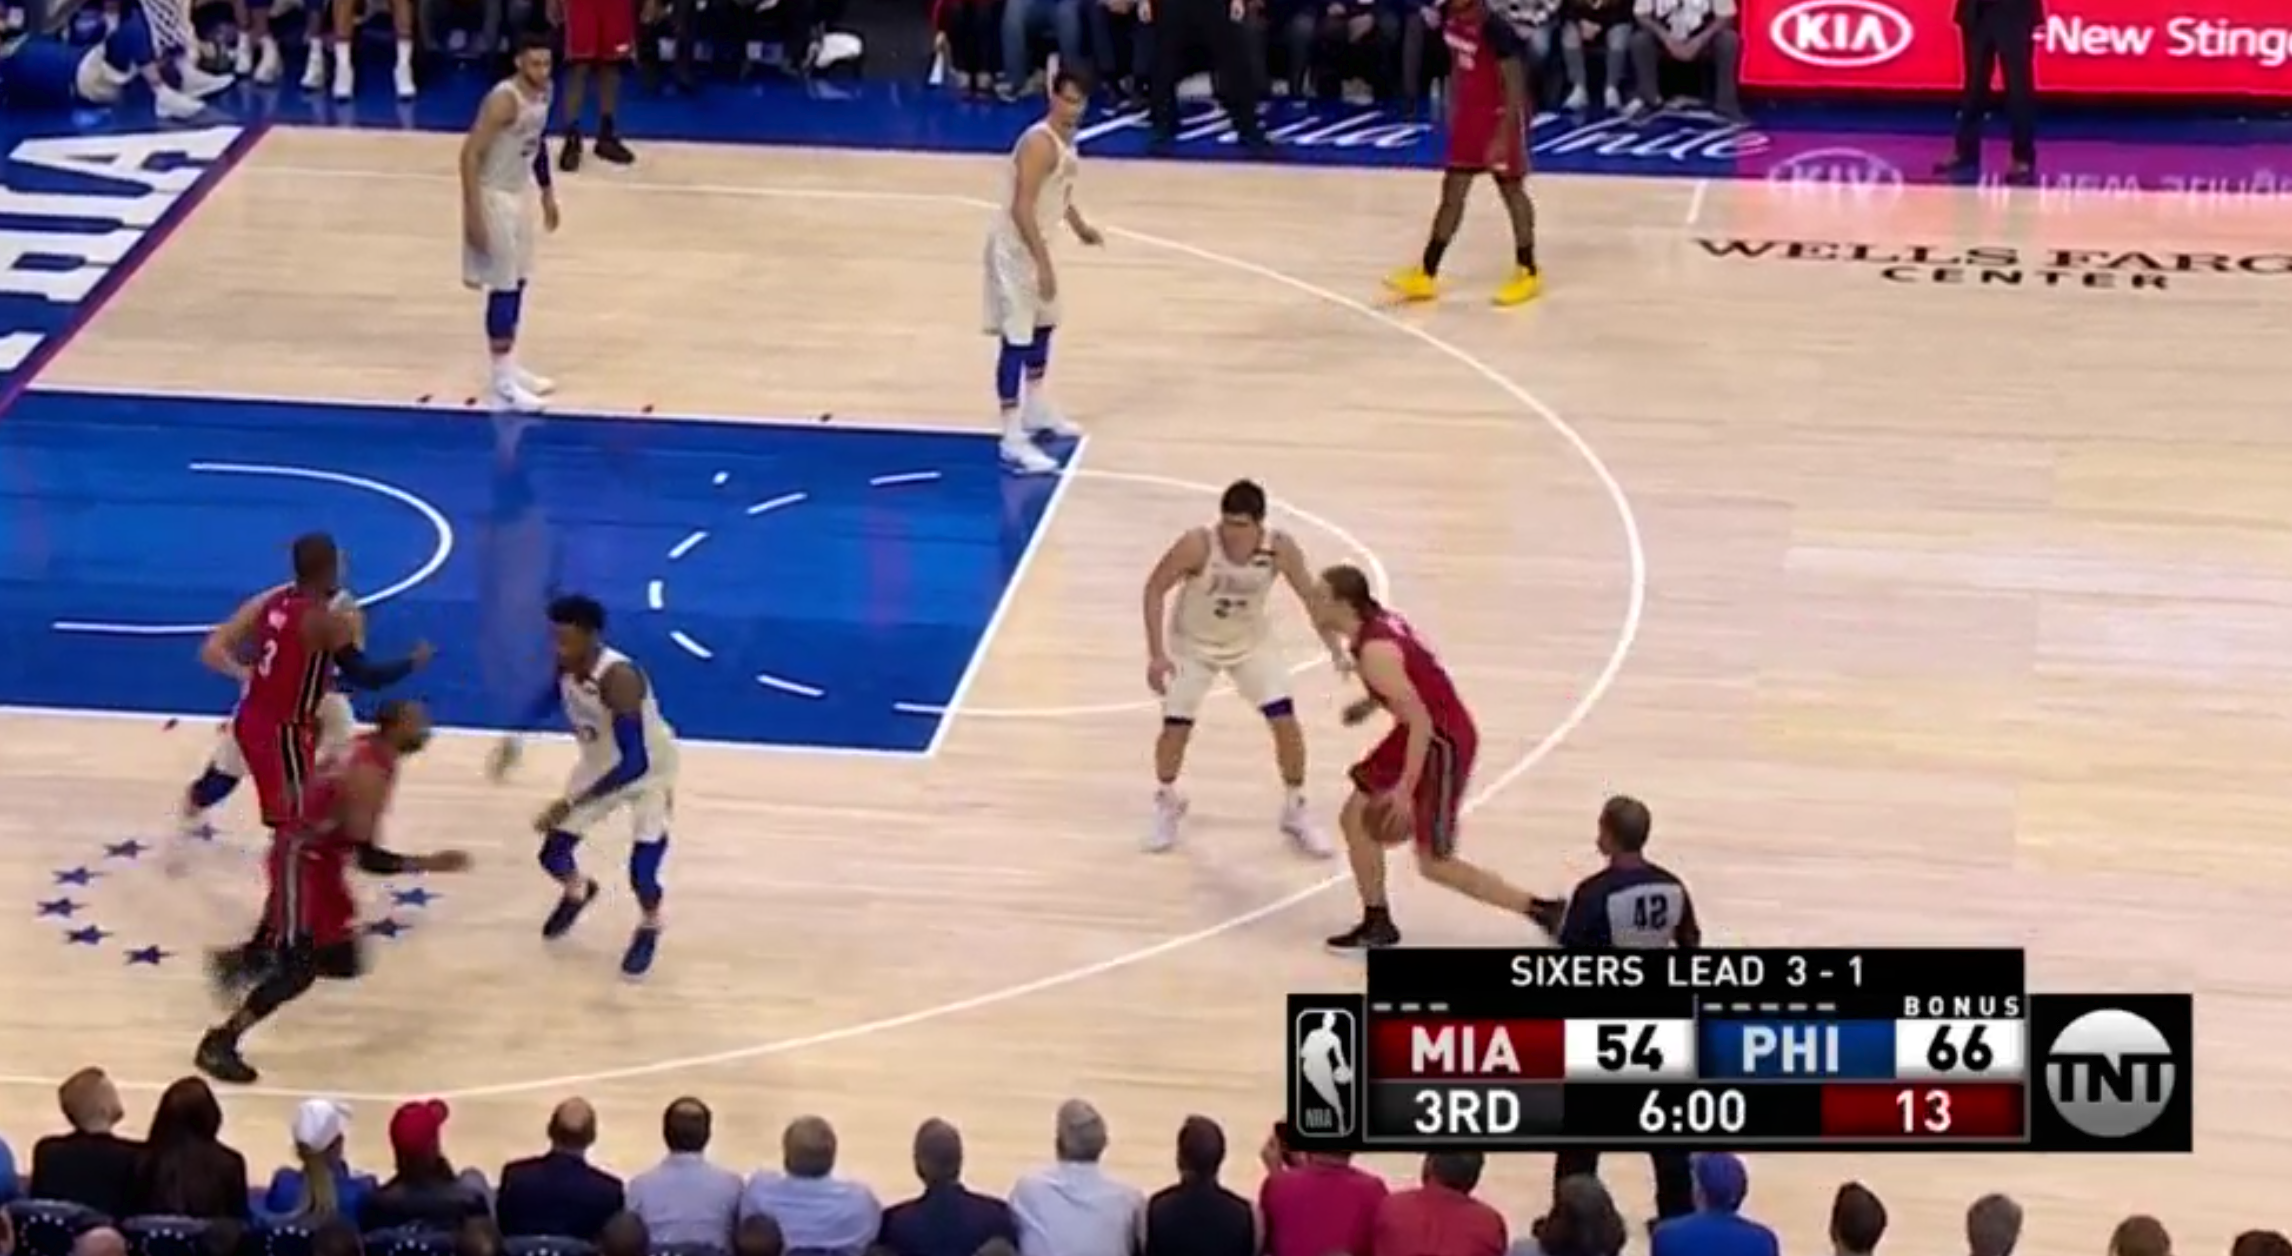ball: (1363, 791, 1411, 843)
player: (252, 673, 443, 1039), (1152, 490, 1335, 861), (522, 613, 681, 967), (1399, 10, 1566, 317), (444, 38, 562, 430), (203, 546, 395, 780), (990, 83, 1099, 458)
